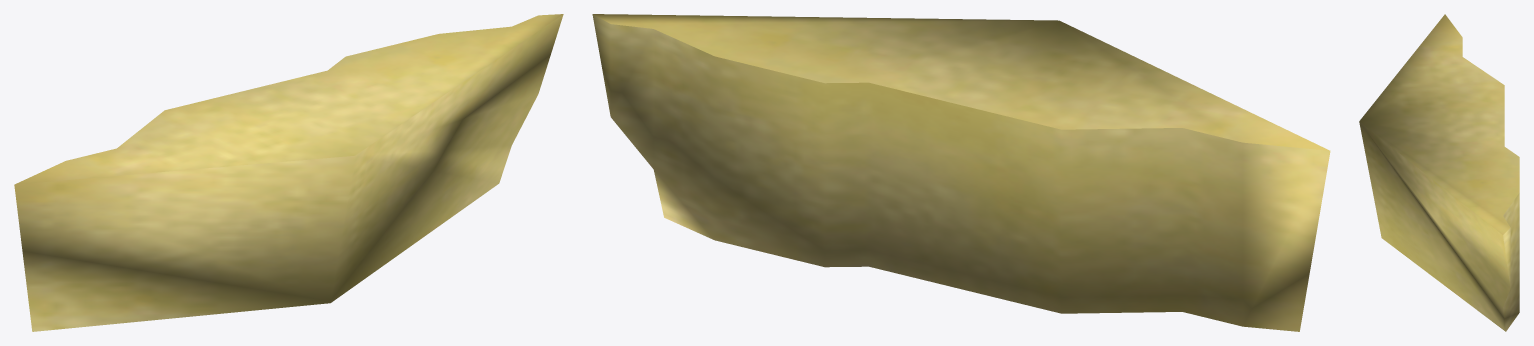
The model's file is Potato3.fbx.
3 views of the same model, side by side, from view 1: azimuth 30°, elevation 25°; view 2: azimuth 150°, elevation 25°; view 3: azimuth 270°, elevation 25° (orthographic). The views are drawn at different scales.
Parts seen in each view (by area): view 1: Cucumber.001; view 2: Cucumber.001; view 3: Cucumber.001.
Boxes of the visible parts, x1,y1,x2,y2 form: Cucumber.001: (14,14,563,331); Cucumber.001: (592,14,1330,331); Cucumber.001: (1359,14,1519,331).
Size of the model in its own units: 542 by 137 by 166.
